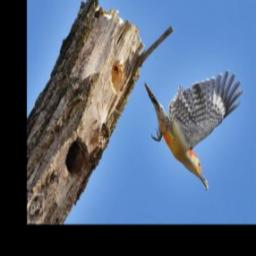Woodpecker: (144, 68, 244, 192)
